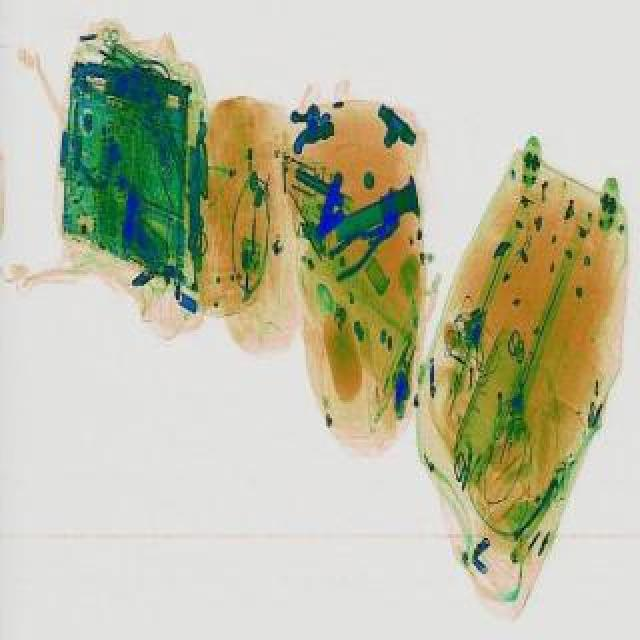wrench: (316, 210, 408, 290)
